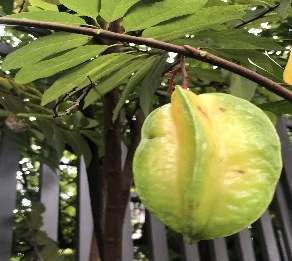Khe: (132, 85, 284, 240)
